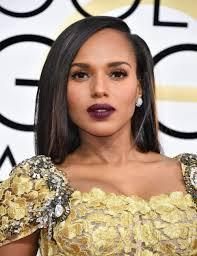Sober: (71, 38, 135, 132)
